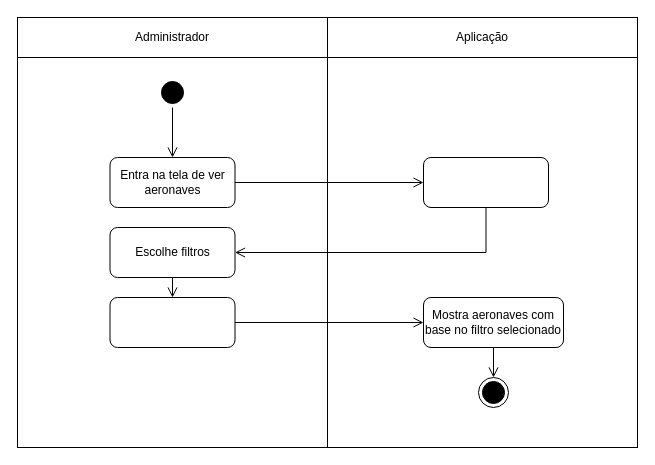
Some shapes in this 655 by 465 pixel diagram are drawn without their labels. Each missing label, with the box of its shape:
Mostra aeronaves: (422, 156, 548, 208)
Pesquisa por aeronaves utilizando o filtro: (109, 296, 235, 348)
